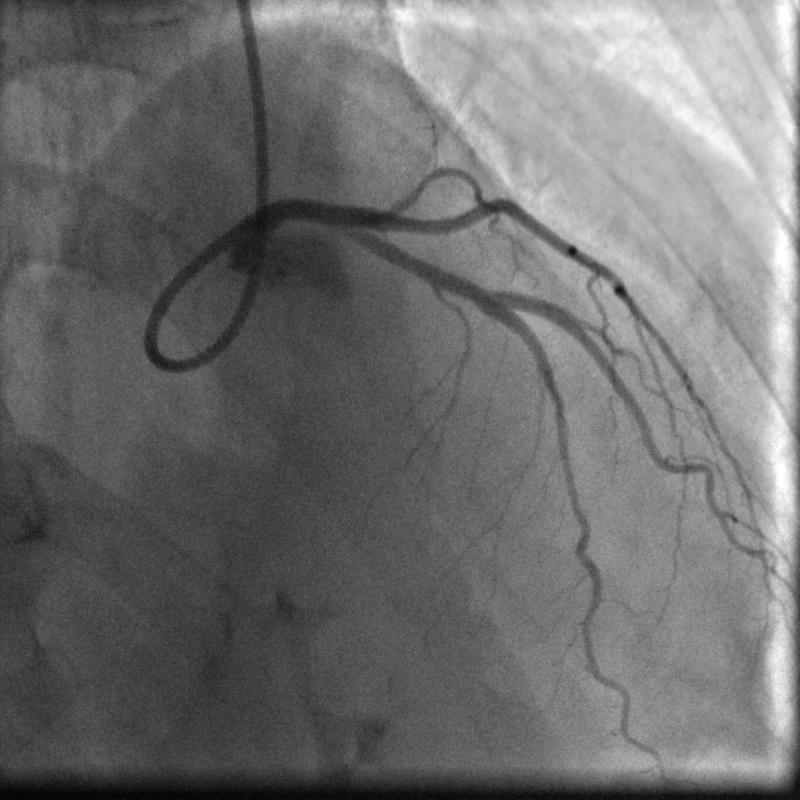Stenosis: (466, 275, 484, 314)
